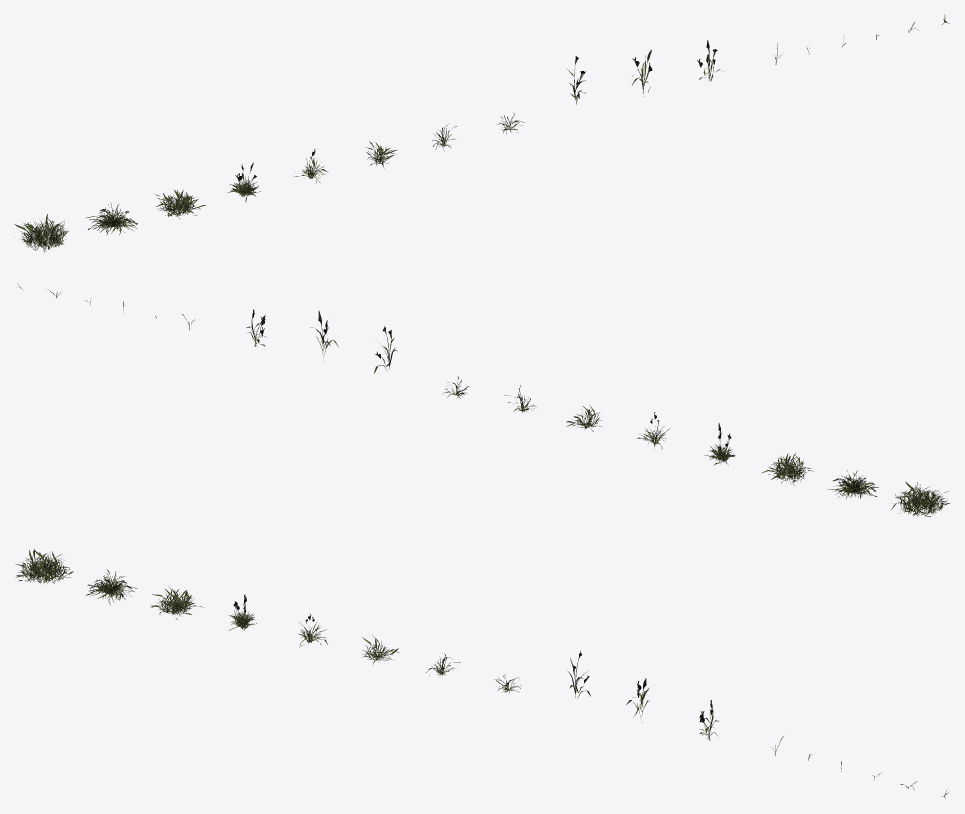
The model's file is grass_medium_01.glb.
3 views of the same model, one above another, from view 1: azimuth 30°, elevation 25°; view 2: azimuth 150°, elevation 25°; view 3: azimuth 330°, elevation 25° (orthographic).
Visible parts, largest first — view 1: grass_medium_01_large_a_LOD0, grass_medium_01_large_b_LOD0, grass_medium_01_large_c_LOD0; view 2: grass_medium_01_large_a_LOD0, grass_medium_01_large_c_LOD0, grass_medium_01_large_b_LOD0; view 3: grass_medium_01_large_a_LOD0, grass_medium_01_large_c_LOD0, grass_medium_01_large_b_LOD0.
Part boxes in pixels (<box>): grass_medium_01_large_a_LOD0: <box>14,214,68,252</box>; grass_medium_01_large_b_LOD0: <box>86,202,137,235</box>; grass_medium_01_large_c_LOD0: <box>155,189,205,218</box>; grass_medium_01_large_a_LOD0: <box>891,481,949,516</box>; grass_medium_01_large_c_LOD0: <box>761,453,813,485</box>; grass_medium_01_large_b_LOD0: <box>828,470,878,498</box>; grass_medium_01_large_a_LOD0: <box>15,549,73,583</box>; grass_medium_01_large_c_LOD0: <box>150,586,203,619</box>; grass_medium_01_large_b_LOD0: <box>86,569,137,604</box>.
Bounding box in the file's own units: 5.6 × 0.3428 × 0.3266.
1 material, 1 textured.
